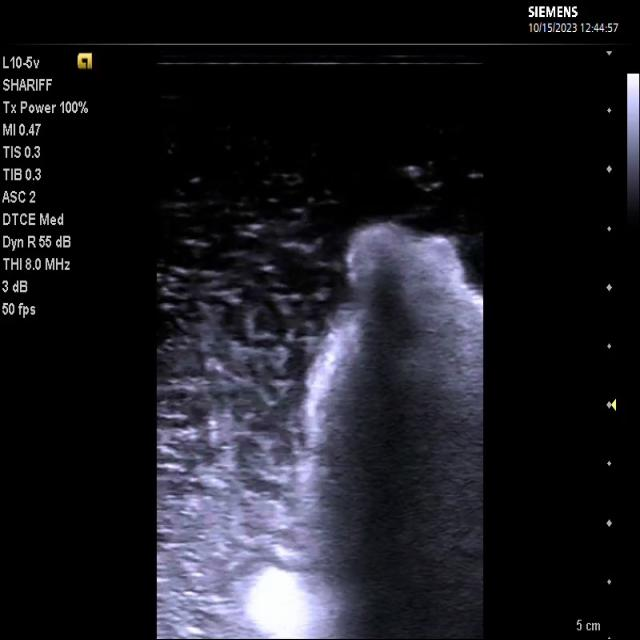tissue: (247, 223, 482, 640)
